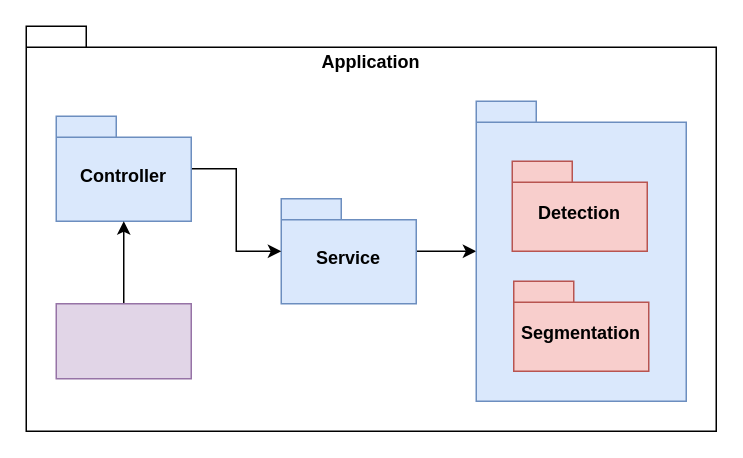
Some shapes in this 743 by 458 pixel diagram are drawn without their labels. The box of each missing label's shape, as (x1, y1, x2, y2) in pixels:
main.py: (55, 302, 191, 379)
Model: (475, 100, 686, 401)
